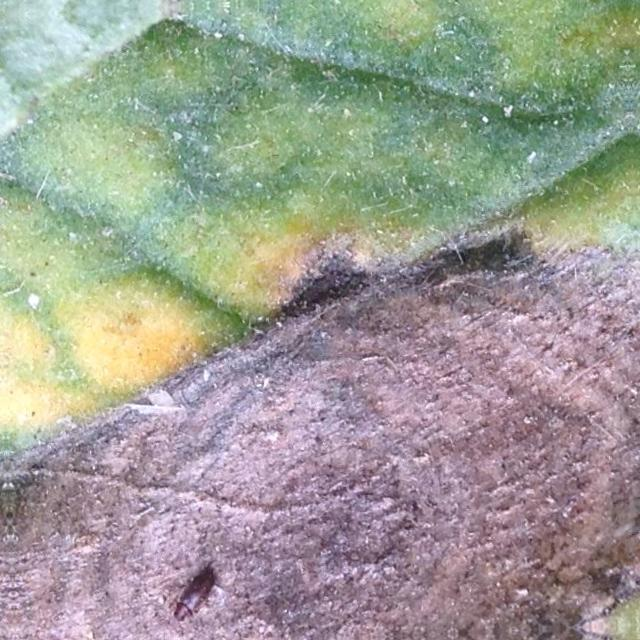Tomato Early blight leaf: (0, 171, 640, 640)
